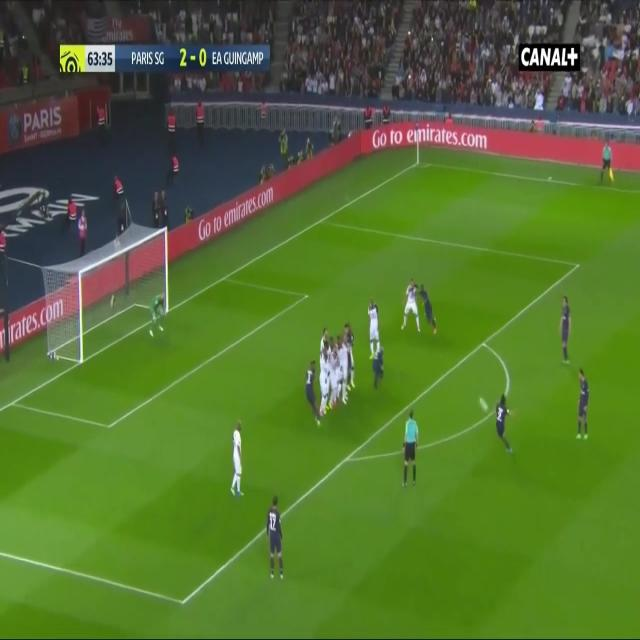Ball: (476, 393, 489, 413)
Goalkeeper: (144, 290, 168, 343)
Player: (265, 496, 286, 583), (493, 392, 516, 455), (228, 420, 246, 500), (302, 356, 322, 426), (399, 276, 421, 335), (557, 293, 573, 367), (576, 366, 590, 444), (364, 298, 382, 358), (419, 284, 438, 338), (318, 342, 332, 415), (371, 347, 386, 395)
Referee: (402, 408, 421, 487), (600, 143, 617, 190)
